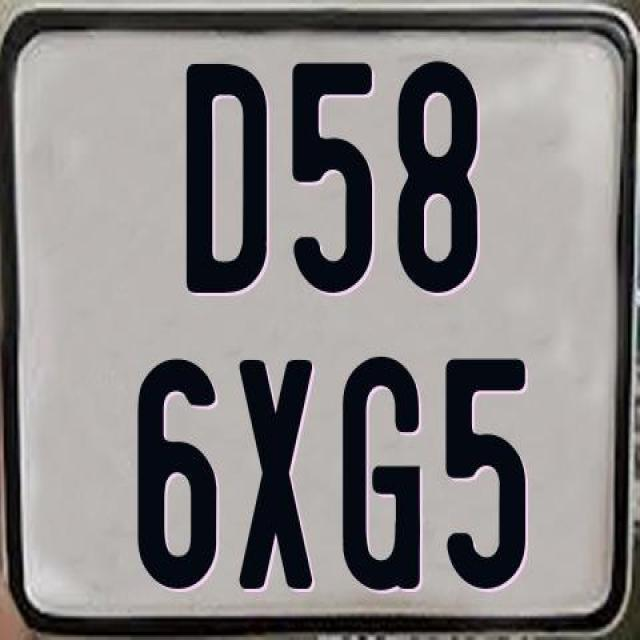5: (442, 357, 530, 589), (292, 62, 376, 301)
6: (137, 354, 219, 594)
8: (394, 61, 482, 294)
D: (186, 59, 272, 298)
G: (338, 357, 416, 592)
X: (234, 357, 310, 586)
